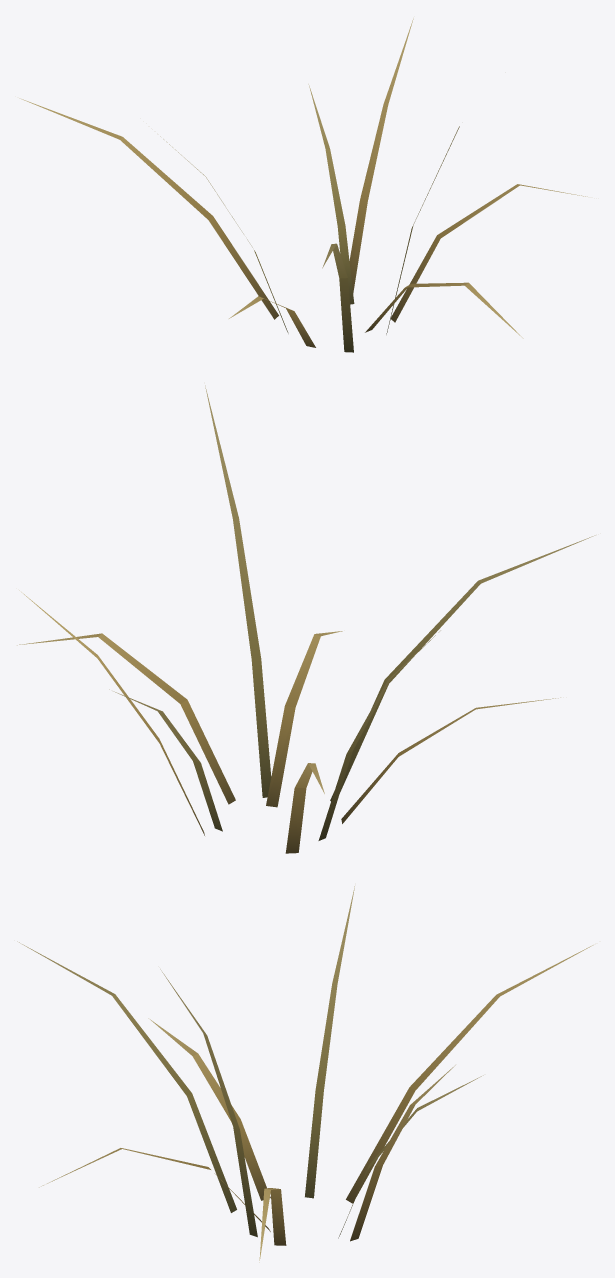
File: grass_dry_straw_01.glb
3 views of the same model, one above another, from view 1: azimuth 30°, elevation 25°; view 2: azimuth 150°, elevation 25°; view 3: azimuth 270°, elevation 25° (orthographic). The views are drawn at different scales.
Parts seen in each view (by area): view 1: grass_dry_straw_01_mesh; view 2: grass_dry_straw_01_mesh; view 3: grass_dry_straw_01_mesh.
Part boxes in pixels (left/top/right/bottom): grass_dry_straw_01_mesh: left=19, top=18, right=587, bottom=352; grass_dry_straw_01_mesh: left=17, top=385, right=595, bottom=853; grass_dry_straw_01_mesh: left=17, top=886, right=593, bottom=1262.
Size of the model in its own units: 0.5518 by 0.3721 by 0.6099.
